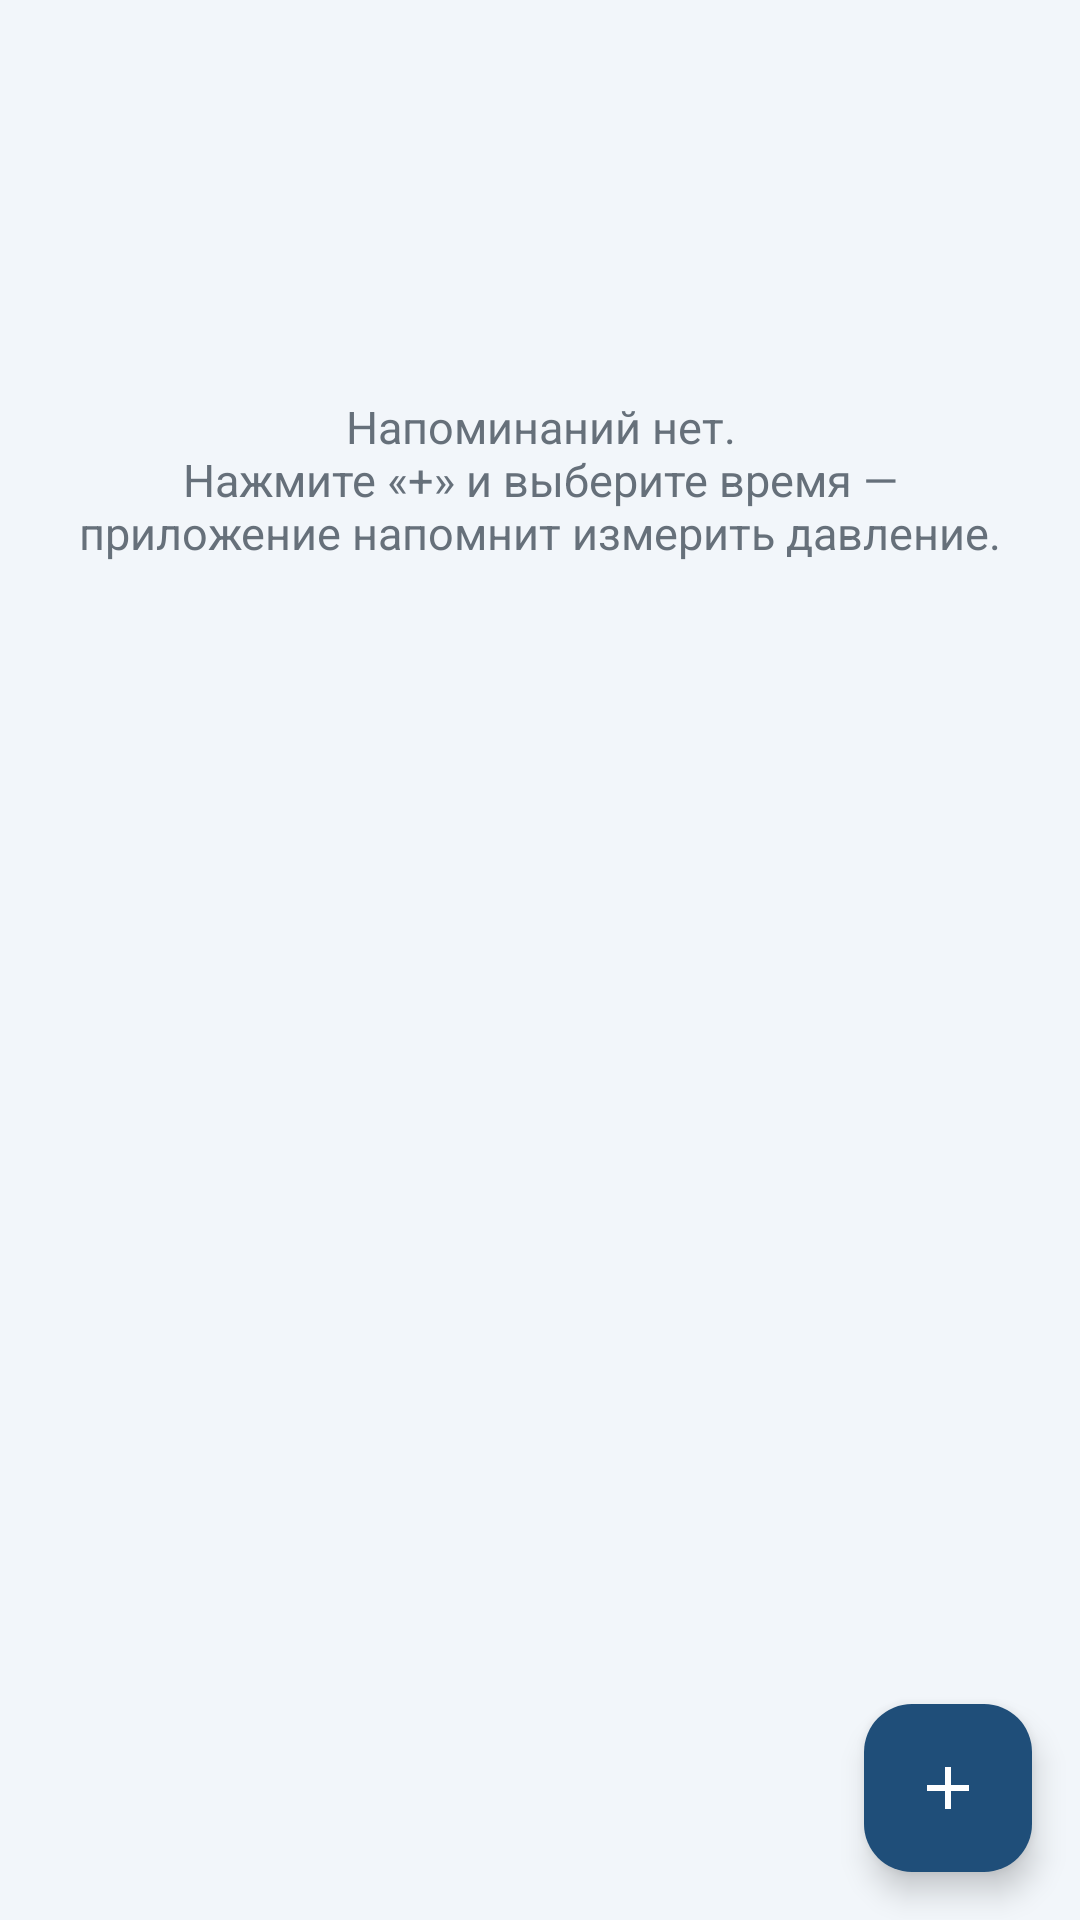

Icons on this 1080px×1920px Android screen, each with its box as (x1, y1, x2, y2):
Добавить напоминание: (864, 1704, 1032, 1872)
